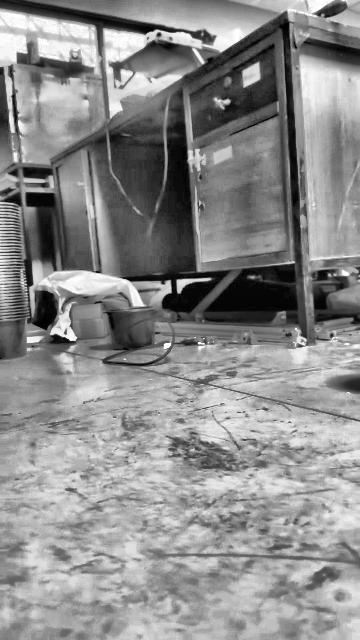pot: (0, 310, 28, 359)
